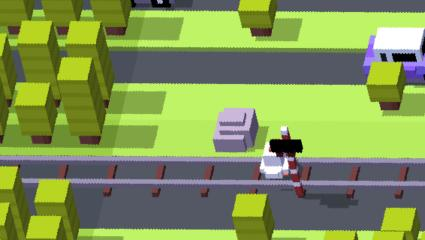hen: (260, 141, 290, 180)
obstacle: (57, 56, 107, 145), (65, 21, 115, 109), (17, 20, 66, 108), (362, 26, 425, 79), (34, 180, 81, 240), (15, 82, 56, 144), (0, 166, 32, 240), (213, 107, 259, 152), (231, 193, 275, 240), (367, 62, 405, 110), (238, 0, 277, 37), (91, 0, 132, 35), (43, 0, 84, 35), (380, 207, 419, 240), (1, 0, 36, 36), (24, 215, 70, 240), (0, 34, 15, 106), (0, 202, 20, 240), (0, 78, 10, 141), (370, 230, 407, 240), (325, 229, 356, 240)
